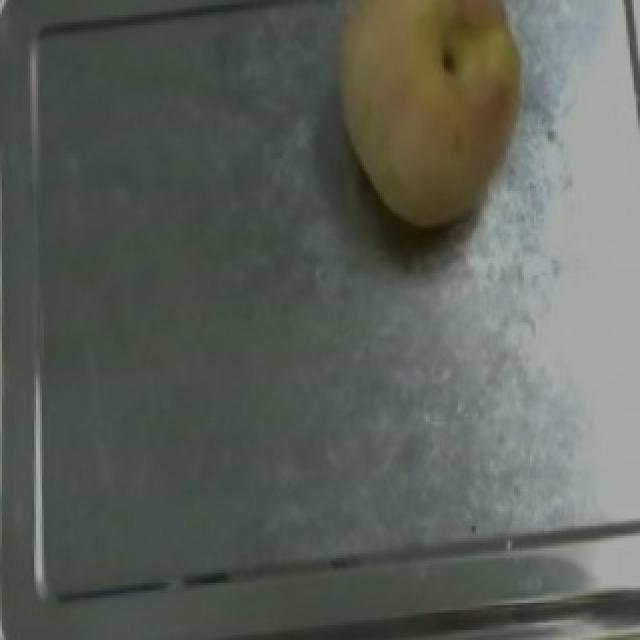Fruit: (302, 0, 550, 243)
